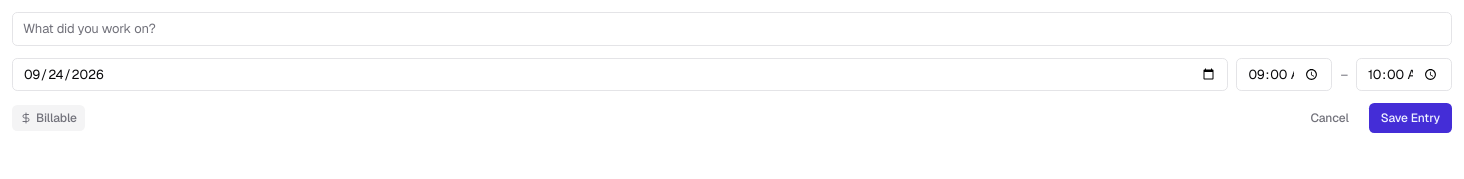
Test: ManualTimeEntryForm › should validate that end time must be after start time
// Set start time to 10:00 and end time to 09:00 (invalid)
Replace the text in the 1st time field with "10:00". click: point(1284, 74)
box: [1236,58,1332,91]
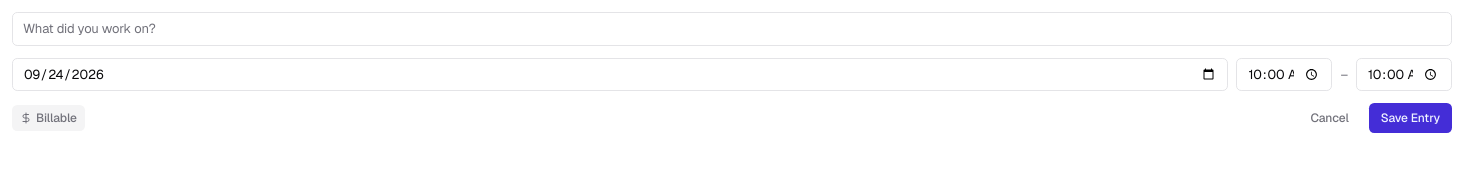
Replace the text in the 2nd time field with "09:00". click: point(1404, 74)
box: [1356,58,1452,91]
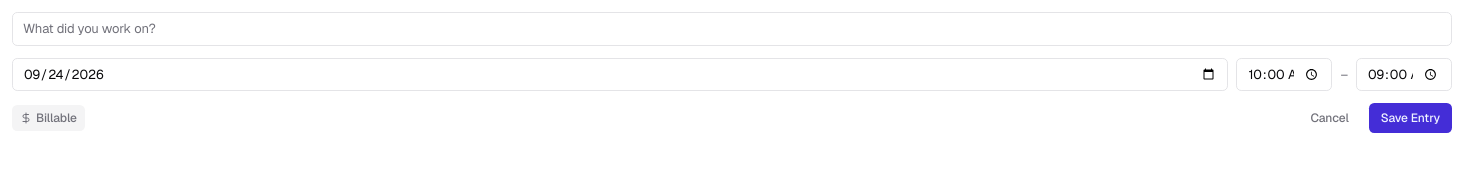
// Submit the form
Click the button "Save Entry". click: point(1410, 118)
box: [1369,103,1452,133]
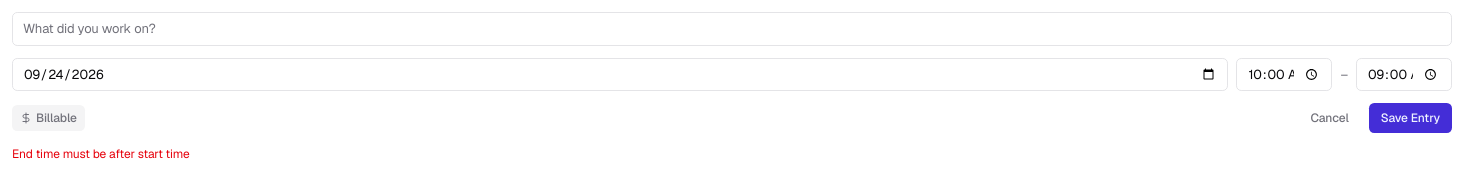
Check: the text "End time must be after start time" is shown, box [12,146,190,162]
